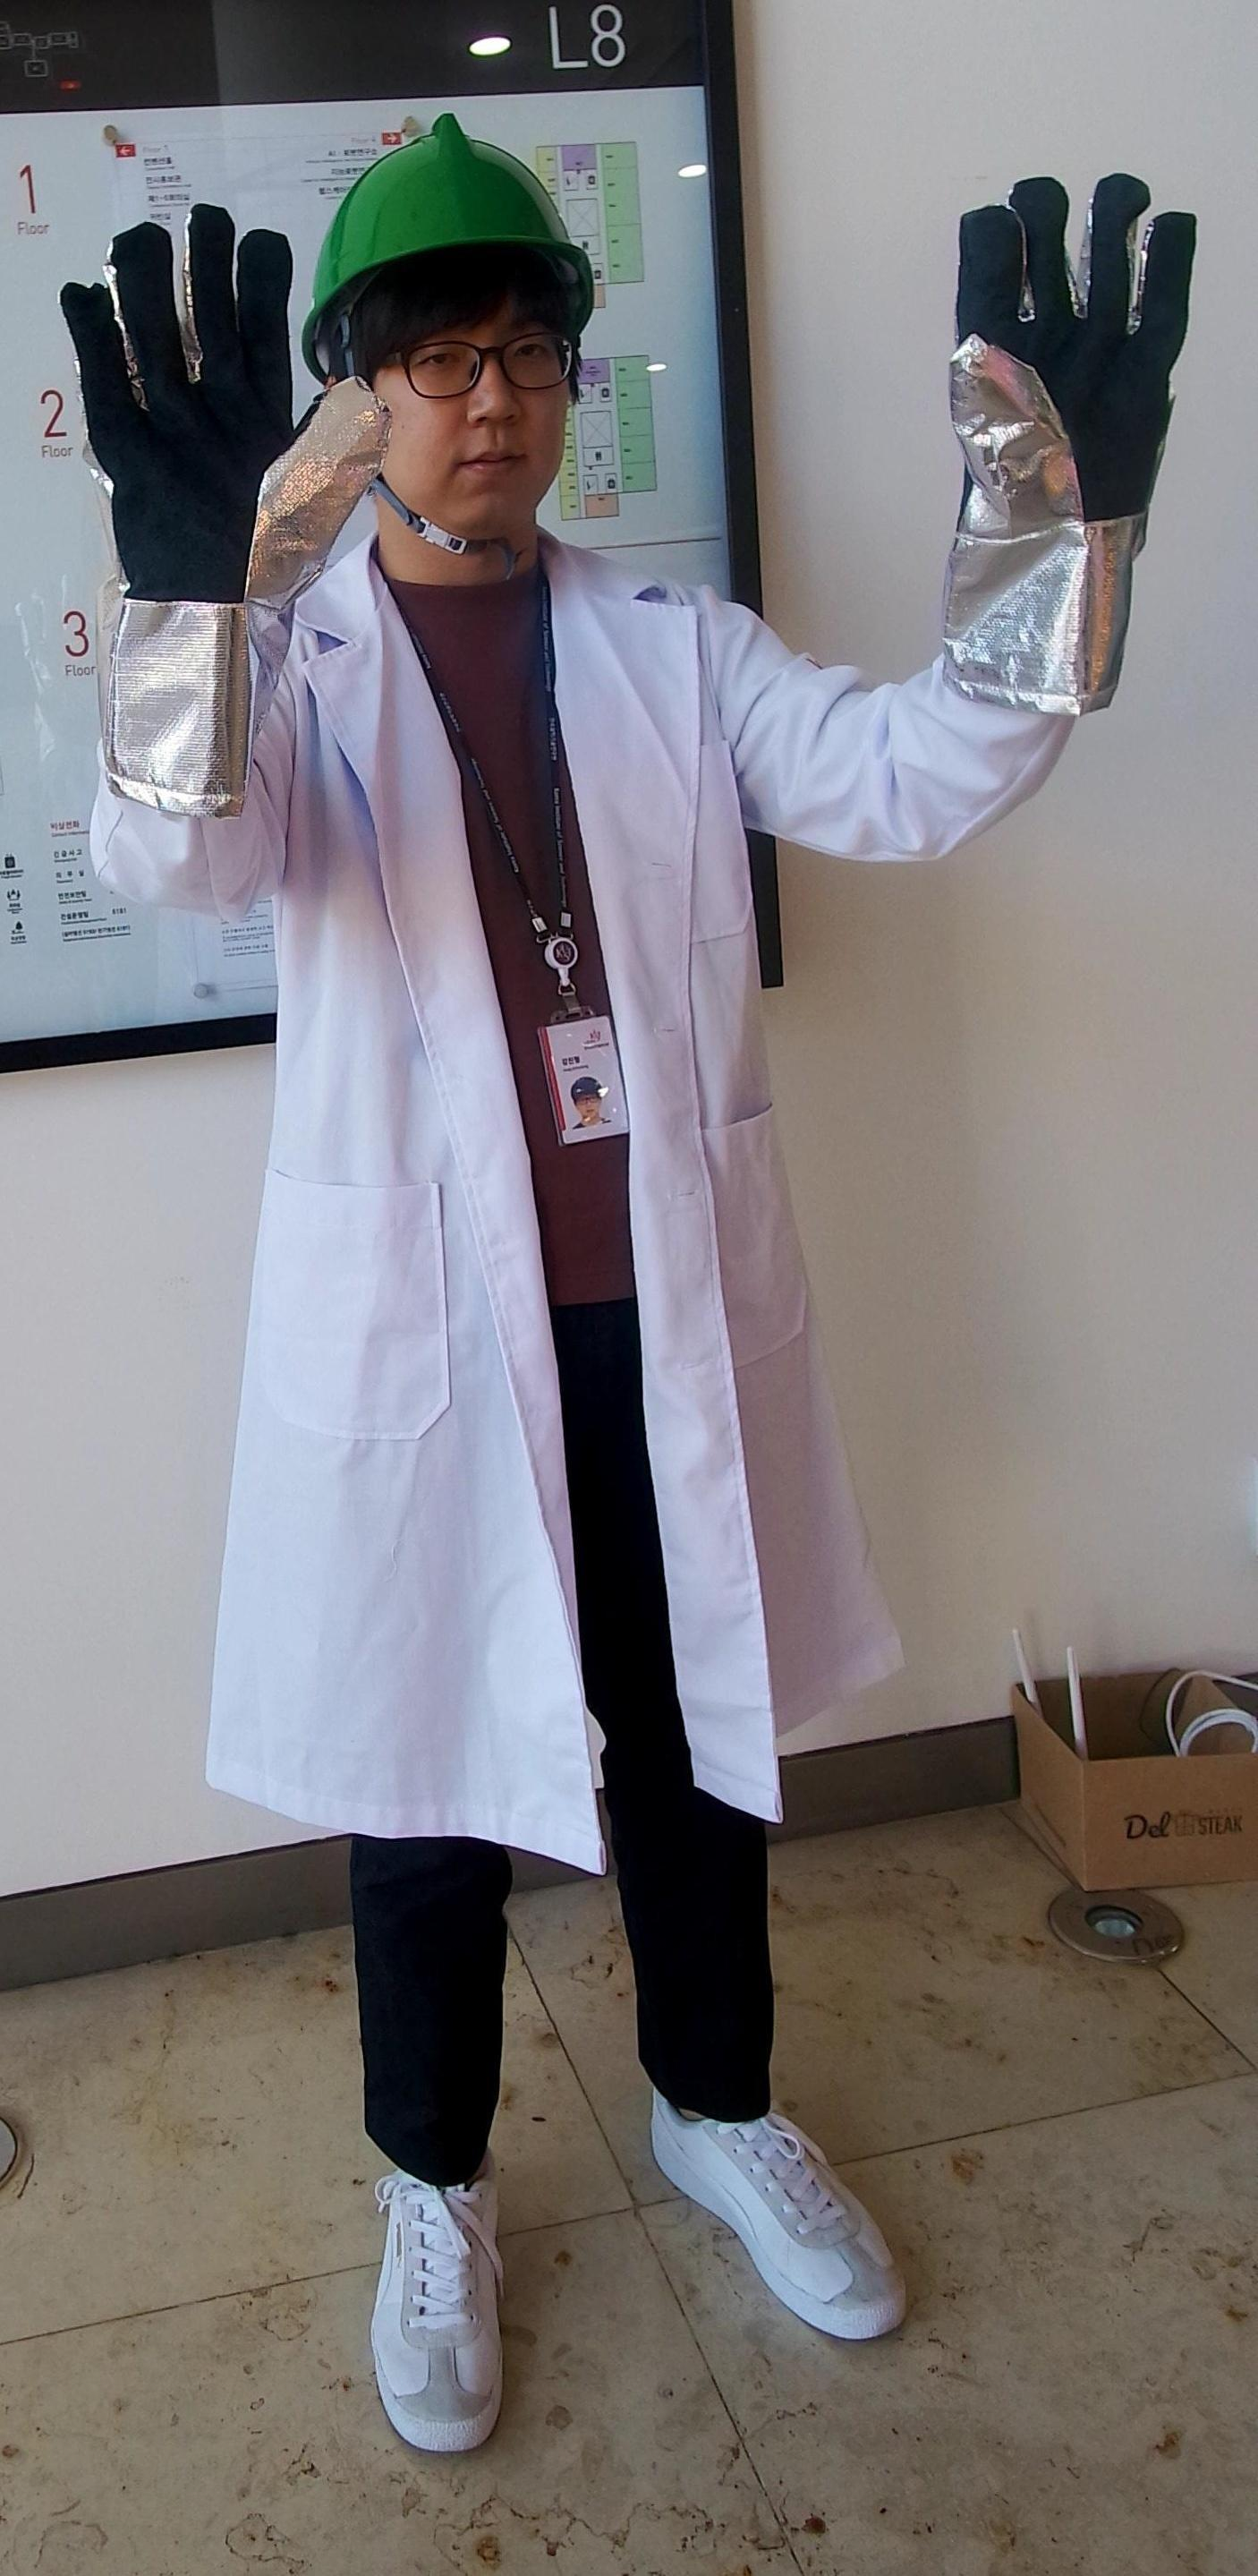lab_coat: (241, 596, 783, 1812)
